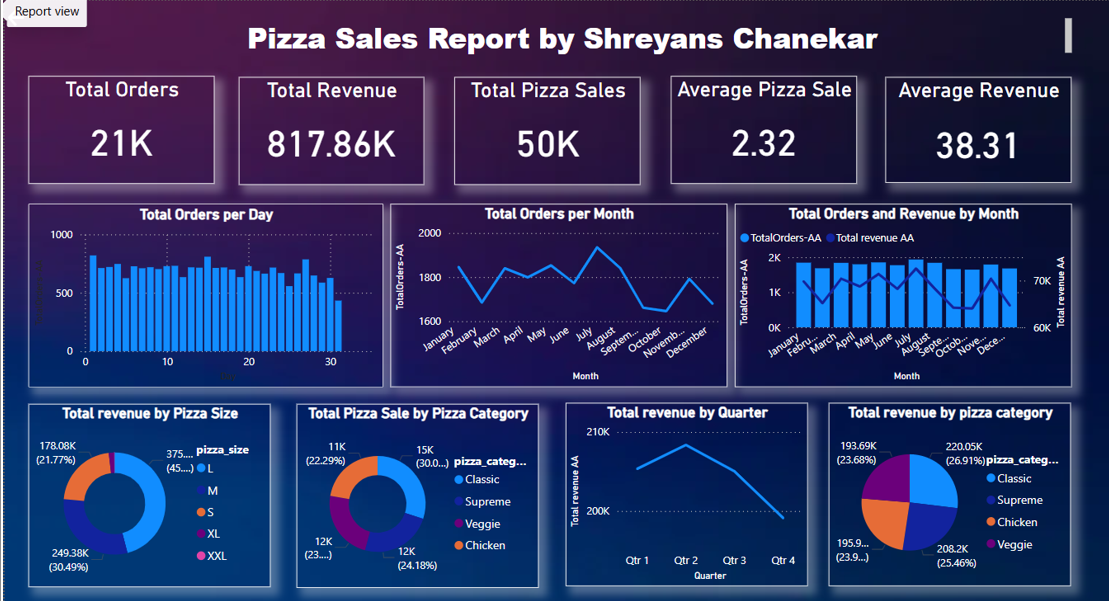

Layout of this report page (visuals, bound fields, positions):
{"tool":"powerbi","page":{"name":"Dashboard","canvas":[1280,720],"ordinal":1},"visuals":[{"type":"cardVisual","title":"Total Orders","fields":{"Data":["pizza_sales.TotalOrders-AA"]},"box":[27.4,87,215,125.2],"z":0},{"type":"cardVisual","title":"Total Revenue","fields":{"Data":["pizza_sales.Total revenue AA"]},"box":[286.3,87.9,214,124.7],"z":1000},{"type":"cardVisual","title":"Total Pizza Sales","fields":{"Data":["pizza_sales.Total pizza sale"]},"box":[540.1,87.9,215.5,124.7],"z":2000},{"type":"cardVisual","title":"Average Pizza Sale","fields":{"Data":["pizza_sales.AvgPizzaSale"]},"box":[806.6,86.5,215.5,126.2],"z":3000},{"type":"card","title":"Average Revenue","fields":{"Values":["pizza_sales.AverageOrderRevenue"]},"box":[1048.9,87.9,215.5,123.3],"z":4000},{"type":"columnChart","title":"Total Orders per Day","fields":{"Category":["pizza_sales.order_date.Variation.Date Hierarchy.Day"],"Y":["pizza_sales.TotalOrders-AA"]},"box":[853.3,235.3,411.1,211.2],"z":5000},{"type":"lineChart","title":"Total Orders per Month","fields":{"Category":["pizza_sales.order_date.Variation.Date Hierarchy.Month"],"Y":["pizza_sales.TotalOrders-AA"]},"box":[26.9,235.3,388.4,211.2],"z":6000},{"type":"lineChart","title":"Total revenue by Quarter","fields":{"Category":["pizza_sales.order_date.Variation.Date Hierarchy.Quarter"],"Y":["pizza_sales.Total revenue AA"]},"box":[22.7,479.1,280.7,211.2],"z":7000},{"type":"pieChart","title":"Total revenue by pizza category","fields":{"Y":["pizza_sales.Total revenue AA"],"Category":["pizza_sales.pizza_category"]},"box":[347.3,479.1,280.7,211.2],"z":8000},{"type":"donutChart","title":"Total Pizza Sale by Pizza Category","fields":{"Category":["pizza_sales.pizza_category"],"Y":["pizza_sales.Total pizza sale"]},"box":[985.2,477.7,279.2,212.6],"z":9000},{"type":"donutChart","title":"Total revenue by Pizza Size","fields":{"Y":["pizza_sales.Total revenue AA"],"Category":["pizza_sales.pizza_size"]},"box":[666.2,479.1,280.7,211.2],"z":10000},{"type":"lineClusteredColumnComboChart","title":"Total Orders and Revenue by Month","fields":{"Category":["pizza_sales.order_date.Variation.Date Hierarchy.Month"],"Y2":["pizza_sales.Total revenue AA"],"Y":["pizza_sales.TotalOrders-AA"]},"box":[445.1,235.3,389.8,211.2],"z":11000},{"type":"actionButton","box":[0,0,43.9,68],"z":12000},{"type":"textbox","box":[58.4,15.5,1180.1,52.4],"z":13000}]}

Visuals, with their boxes on the page's 1280x720 design canvas (x1, y1, x2, y2). These are canvas units, not pixel positions in the 1109x601 screenshot, which may show the page scaled, cropped or inside an application window:
"Total Orders" cardVisual: (x1=27, y1=87, x2=242, y2=212)
"Total Revenue" cardVisual: (x1=286, y1=88, x2=500, y2=213)
"Total Pizza Sales" cardVisual: (x1=540, y1=88, x2=756, y2=213)
"Average Pizza Sale" cardVisual: (x1=807, y1=86, x2=1022, y2=213)
"Average Revenue" card: (x1=1049, y1=88, x2=1264, y2=211)
"Total Orders per Day" columnChart: (x1=853, y1=235, x2=1264, y2=446)
"Total Orders per Month" lineChart: (x1=27, y1=235, x2=415, y2=446)
"Total revenue by Quarter" lineChart: (x1=23, y1=479, x2=303, y2=690)
"Total revenue by pizza category" pieChart: (x1=347, y1=479, x2=628, y2=690)
"Total Pizza Sale by Pizza Category" donutChart: (x1=985, y1=478, x2=1264, y2=690)
"Total revenue by Pizza Size" donutChart: (x1=666, y1=479, x2=947, y2=690)
"Total Orders and Revenue by Month" lineClusteredColumnComboChart: (x1=445, y1=235, x2=835, y2=446)
actionButton: (x1=0, y1=0, x2=44, y2=68)
textbox: (x1=58, y1=16, x2=1238, y2=68)
